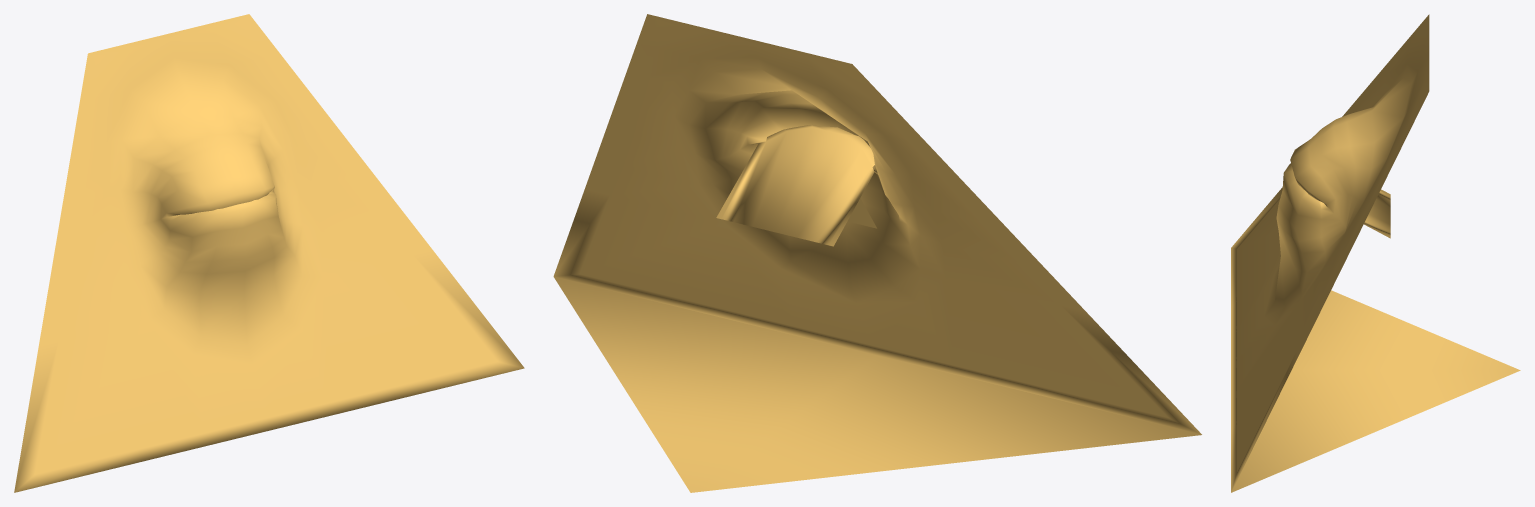
The model's file is PiramidaStrana3.fbx.
The picture shows the model from 3 angles, left to right: view 1: azimuth 30°, elevation 25°; view 2: azimuth 150°, elevation 25°; view 3: azimuth 270°, elevation 25°; orthographic projection. The views are drawn at different scales.
Visible parts, largest first — view 1: jedan deo piramide.001; view 2: jedan deo piramide.001; view 3: jedan deo piramide.001.
Part boxes in pixels (x1,y1,x2,y2): jedan deo piramide.001: (14,14,524,492); jedan deo piramide.001: (553,14,1201,492); jedan deo piramide.001: (1231,14,1520,492).
Bounding box in the file's own units: 424 × 256 × 212.
